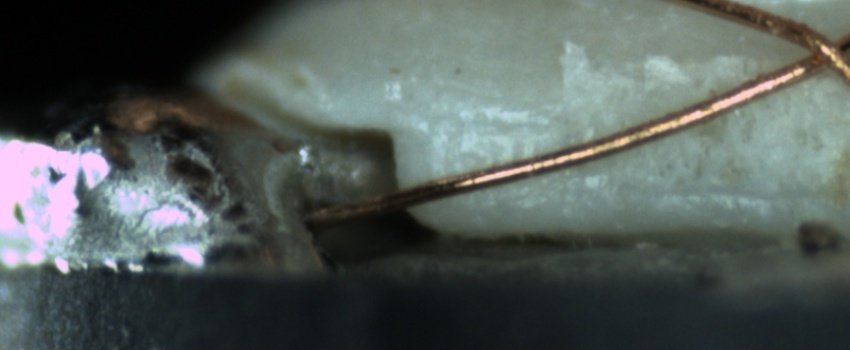CL: (776, 14, 849, 85)
DL: (432, 93, 574, 157)
